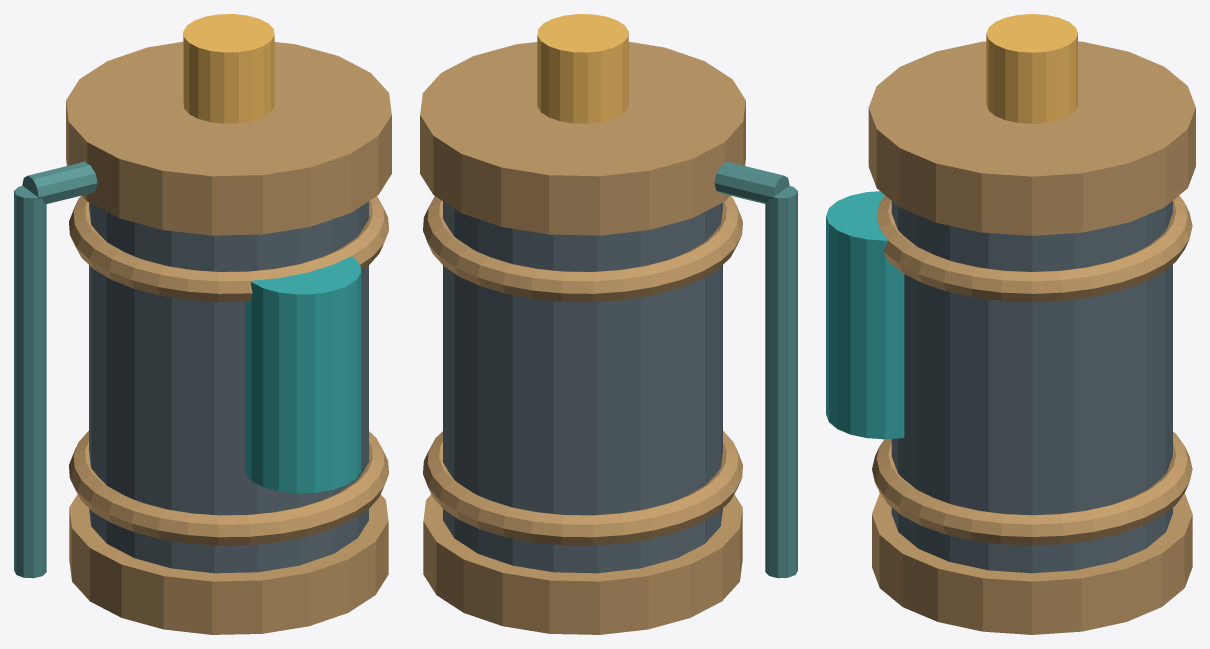
File: ReserveTank.glb
The picture shows the model from 3 angles, left to right: view 1: azimuth 30°, elevation 25°; view 2: azimuth 150°, elevation 25°; view 3: azimuth 270°, elevation 25°; orthographic projection.
Parts seen in each view (by area): view 1: ReserveTank; view 2: ReserveTank; view 3: ReserveTank.
Part boxes in pixels (x1,y1,x2,y2): ReserveTank: [14, 14, 391, 634]; ReserveTank: [420, 14, 797, 634]; ReserveTank: [826, 14, 1195, 634].
Size of the model in its own units: 1.25 by 1.8 by 1.13.
